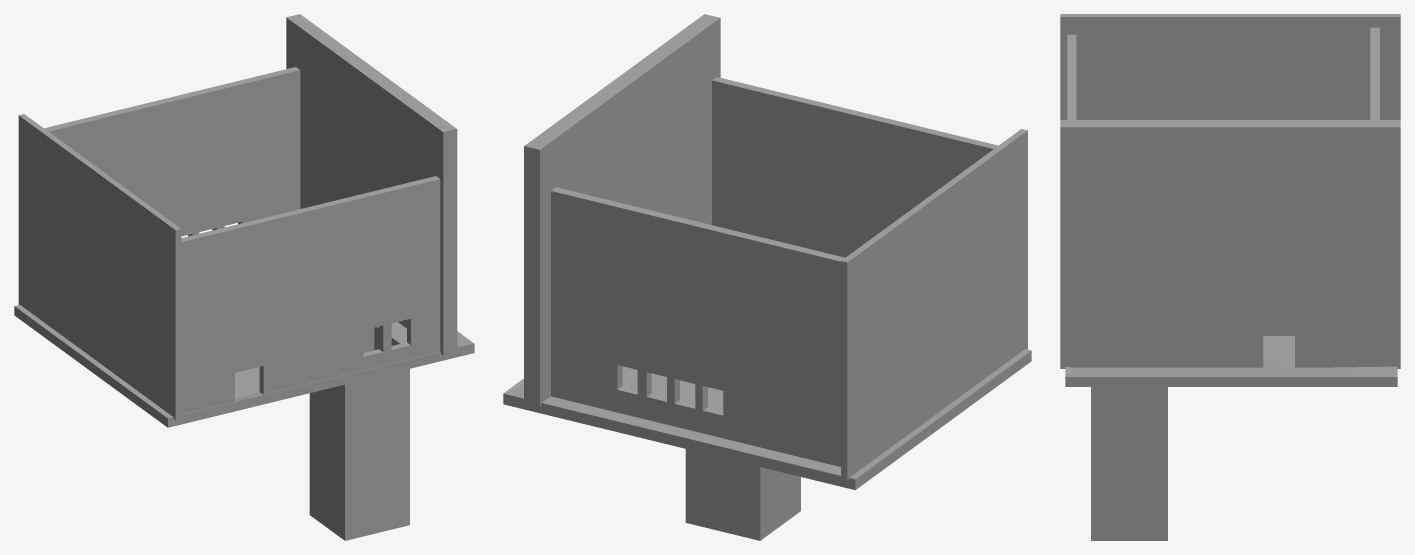
Rendered from комплек.fbx.
3 views of the same model, side by side, from view 1: azimuth 30°, elevation 25°; view 2: azimuth 150°, elevation 25°; view 3: azimuth 270°, elevation 25° (orthographic). The views are drawn at different scales.
Parts seen in each view (by area): view 1: Cube.045, Cube.002, Cube.044, Cube.043, Cube.042; view 2: Cube.044, Cube.002, Cube.045, Cube.043, Cube.042; view 3: Cube.043, Cube.002, Cube.042, Cube.044, Cube.045.
Boxes of the visible parts, bbox=[...] form: Cube.045: bbox=[181, 176, 440, 414]; Cube.002: bbox=[18, 114, 181, 420]; Cube.044: bbox=[44, 67, 300, 236]; Cube.043: bbox=[286, 14, 457, 355]; Cube.042: bbox=[14, 305, 474, 540]; Cube.044: bbox=[551, 187, 844, 466]; Cube.002: bbox=[841, 129, 1027, 480]; Cube.045: bbox=[712, 77, 997, 257]; Cube.043: bbox=[524, 14, 720, 406]; Cube.042: bbox=[503, 349, 1031, 540]; Cube.043: bbox=[1060, 120, 1400, 368]; Cube.002: bbox=[1060, 14, 1400, 119]; Cube.042: bbox=[1065, 336, 1397, 540]; Cube.044: bbox=[1370, 27, 1379, 119]; Cube.045: bbox=[1067, 34, 1076, 119].
Size of the model in its own units: 4450 by 5526 by 3950.
1 material, 1 textured.
